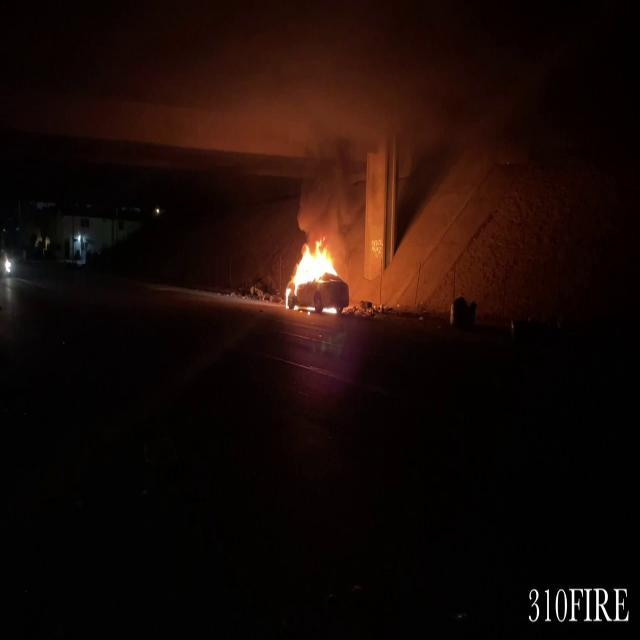Fire: (282, 230, 347, 314)
